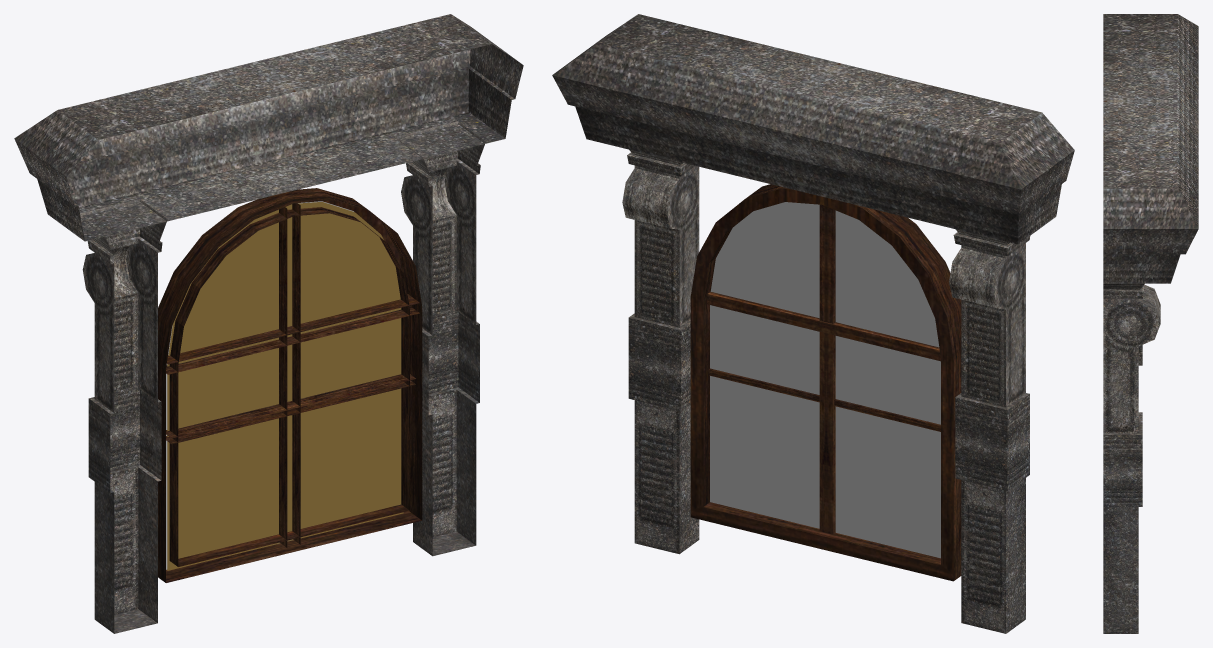
File: outside_window.DAE
The picture shows the model from 3 angles, left to right: view 1: azimuth 30°, elevation 25°; view 2: azimuth 150°, elevation 25°; view 3: azimuth 270°, elevation 25°; orthographic projection. The views are drawn at different scales.
Visible parts, largest first — view 1: Box005; view 2: Box005, Object001; view 3: Box005.
Boxes of the visible parts, x1,y1,x2,y2 form: Box005: (14,14,523,633); Box005: (552,14,1074,633); Object001: (710,202,940,558); Box005: (1103,14,1198,633).
Bounding box in the file's own units: 3.16 × 0.6282 × 3.29.
